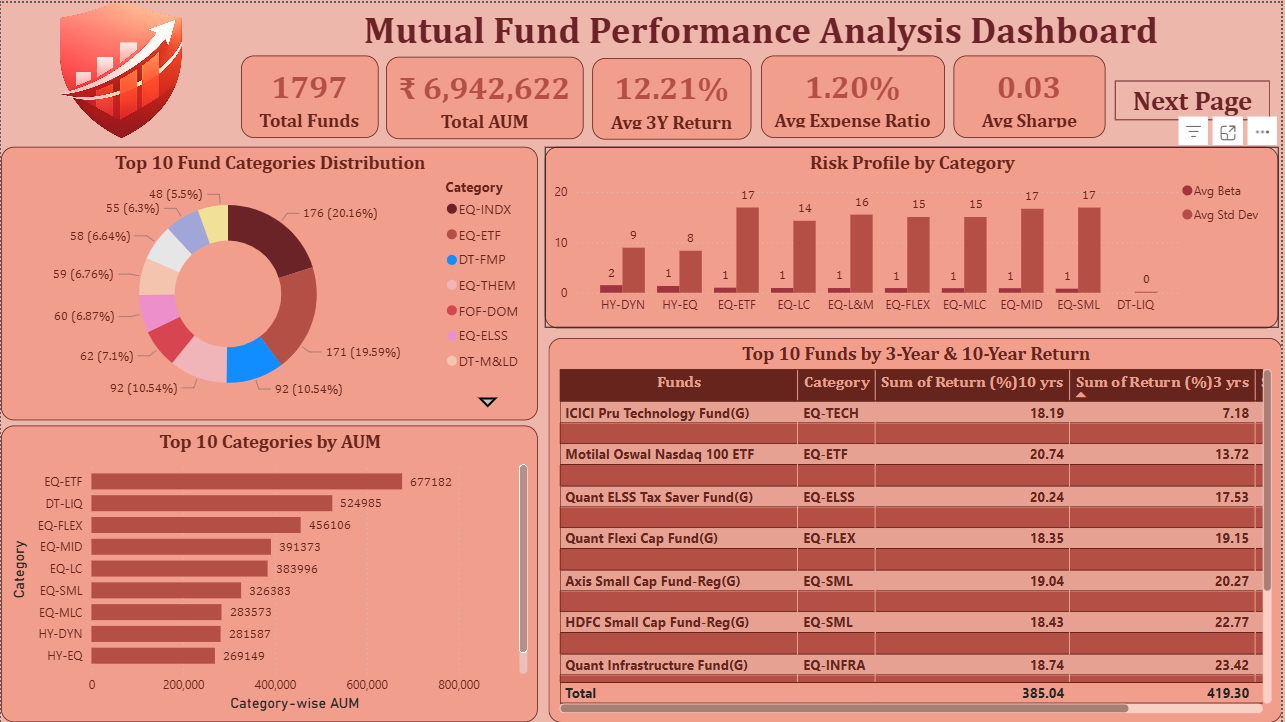

This screenshot's page, from the dashboard's own definition file:
{"tool":"powerbi","page":{"name":"Executive Overview","canvas":[1280,720],"ordinal":0},"visuals":[{"type":"textbox","box":[240,0,1040,55],"z":0},{"type":"card","fields":{"Values":["Mutual_Fund_Cleaned.Total Funds"]},"box":[239.5,52.3,137.2,82.6],"z":1000},{"type":"card","fields":{"Values":["Mutual_Fund_Cleaned.Total AUM"]},"box":[384.9,53.5,197.7,82.6],"z":2000},{"type":"card","fields":{"Values":["Mutual_Fund_Cleaned.Avg 3Y Return"]},"box":[591.9,54.7,159.3,81.4],"z":3000},{"type":"card","fields":{"Values":["Mutual_Fund_Cleaned.Avg Expense Ratio"]},"box":[760.5,52.3,183.7,82.6],"z":4000},{"type":"clusteredBarChart","title":"Top 10 Categories by AUM","fields":{"Category":["Mutual_Fund_Cleaned.Category"],"Y":["Mutual_Fund_Cleaned.Category-wise AUM"]},"box":[0,423,536.8,296.6],"z":5000},{"type":"tableEx","title":"Top 10 Funds by 3-Year & 10-Year Return","fields":{"Values":["Mutual_Fund_Cleaned.Funds","Mutual_Fund_Cleaned.Category","Sum(Mutual_Fund_Cleaned.Return (%)10 yrs)","Sum(Mutual_Fund_Cleaned.Return (%)3 yrs)","Sum(Mutual_Fund_Cleaned.AUM(in Rs. cr))"]},"box":[547.1,334.5,733.3,385.1],"z":6000},{"type":"actionButton","box":[1113.3,77.1,155.5,39.8],"z":7000},{"type":"card","fields":{"Values":["Mutual_Fund_Cleaned.Avg Sharpe"]},"box":[952.3,52.3,152.3,82.6],"z":8000},{"type":"clusteredColumnChart","title":"Risk Profile by Category","fields":{"Category":["Mutual_Fund_Cleaned.Category"],"Y":["Mutual_Fund_Cleaned.Avg Beta","Mutual_Fund_Cleaned.Avg Std Dev"]},"box":[544.2,144.2,733.7,181.4],"z":9000},{"type":"image","box":[0,0,240.1,138.1],"z":10000},{"type":"donutChart","title":"Top 10 Fund Categories Distribution","fields":{"Category":["Mutual_Fund_Cleaned.Category"],"Y":["Mutual_Fund_Cleaned.Total Funds"]},"box":[0,143.7,536.8,273.6],"z":11000}]}

Visuals, with their boxes in screenshot pixels (x1, y1, x2, y2), scaled from the page's 1280x720 canvas onto the 1285x722 screenshot:
textbox: [left=241, top=0, right=1284, bottom=55]
card - Mutual_Fund_Cleaned.Total Funds: [left=240, top=52, right=378, bottom=135]
card - Mutual_Fund_Cleaned.Total AUM: [left=386, top=54, right=585, bottom=136]
card - Mutual_Fund_Cleaned.Avg 3Y Return: [left=594, top=55, right=754, bottom=136]
card - Mutual_Fund_Cleaned.Avg Expense Ratio: [left=763, top=52, right=948, bottom=135]
"Top 10 Categories by AUM" clusteredBarChart: [left=0, top=424, right=539, bottom=721]
"Top 10 Funds by 3-Year & 10-Year Return" tableEx: [left=549, top=335, right=1284, bottom=721]
actionButton: [left=1118, top=77, right=1274, bottom=117]
card - Mutual_Fund_Cleaned.Avg Sharpe: [left=956, top=52, right=1109, bottom=135]
"Risk Profile by Category" clusteredColumnChart: [left=546, top=145, right=1283, bottom=327]
image: [left=0, top=0, right=241, bottom=138]
"Top 10 Fund Categories Distribution" donutChart: [left=0, top=144, right=539, bottom=418]
